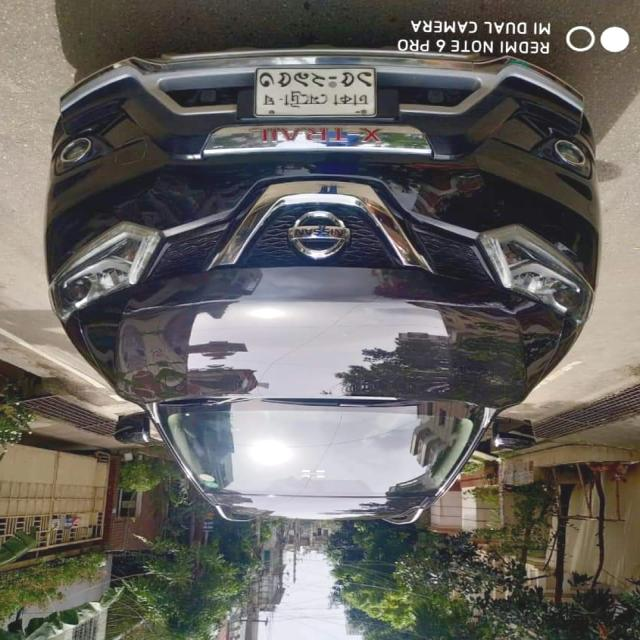black: (45, 52, 599, 525)
